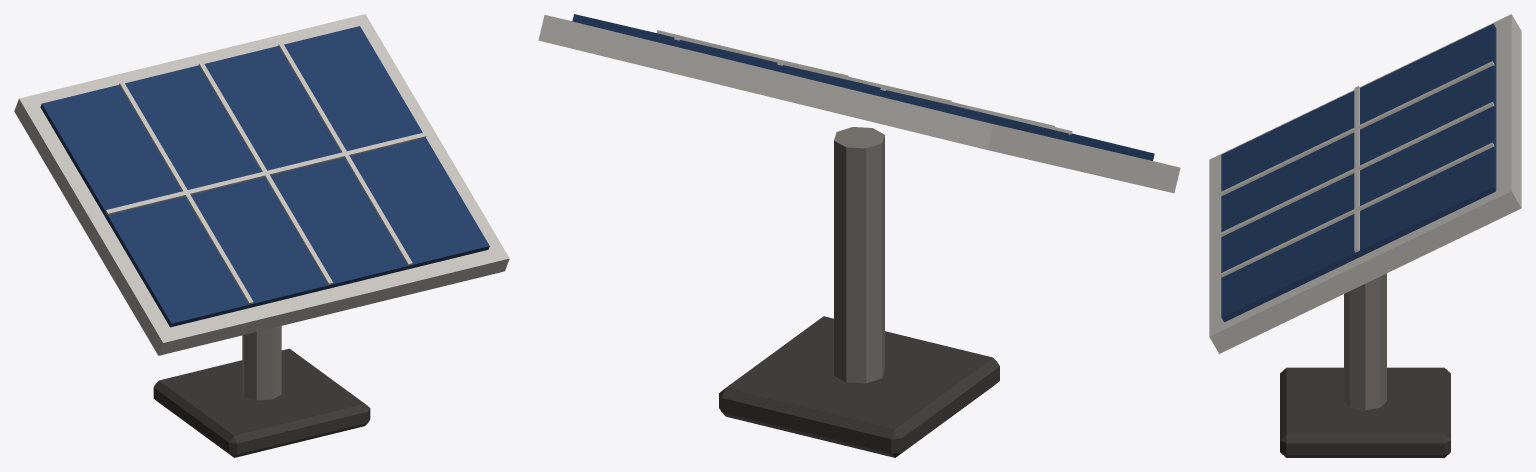
The model's file is solar.fbx.
The picture shows the model from 3 angles, left to right: view 1: azimuth 30°, elevation 25°; view 2: azimuth 150°, elevation 25°; view 3: azimuth 270°, elevation 25°; orthographic projection. The views are drawn at different scales.
Visible parts, largest first — view 1: solar; view 2: solar; view 3: solar.
Boxes of the visible parts, x1=… form: solar: x1=14, y1=14, x2=509, y2=457; solar: x1=538, y1=14, x2=1180, y2=457; solar: x1=1209, y1=14, x2=1521, y2=457.
Bounding box in the file's own units: 2.94 × 2.49 × 2.19.
